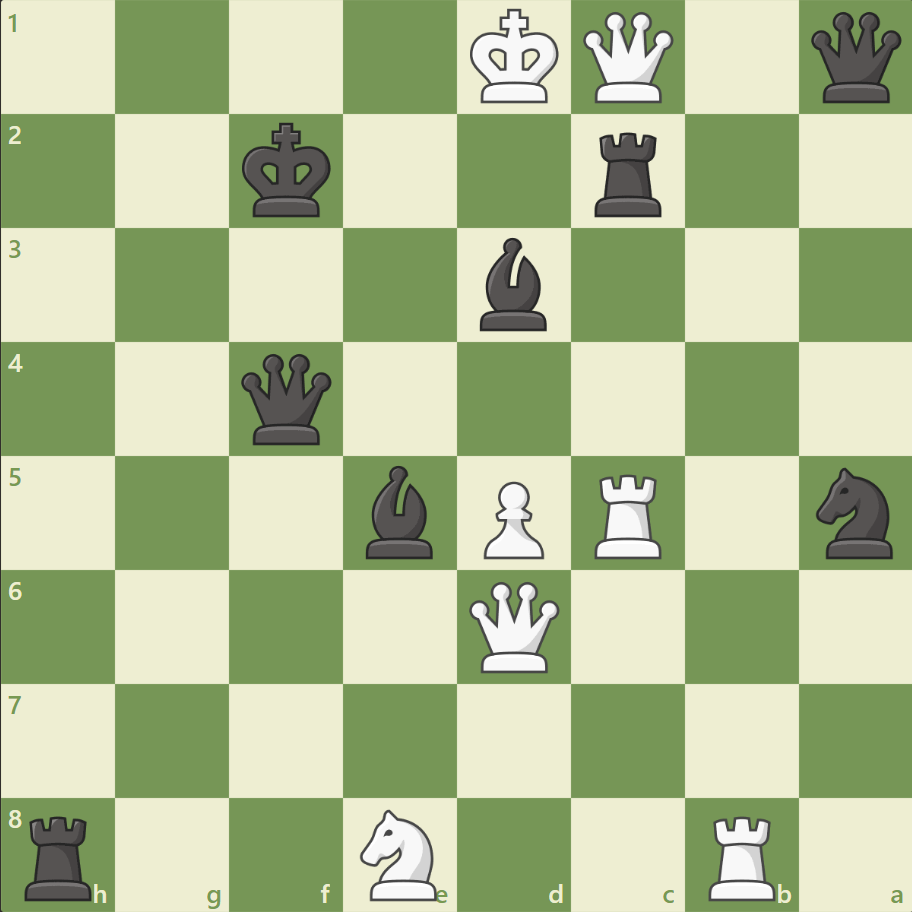K: (465, 4, 565, 112)
N: (351, 802, 449, 904)
P: (474, 473, 549, 564)
Q: (464, 576, 563, 676), (578, 9, 677, 108)
R: (700, 806, 783, 904), (587, 466, 670, 563)
b: (358, 460, 442, 563), (471, 233, 555, 336)
k: (238, 117, 338, 225)
n: (806, 461, 903, 564)
q: (237, 349, 336, 449), (805, 9, 904, 108)
r: (19, 806, 102, 904), (587, 125, 670, 222)
